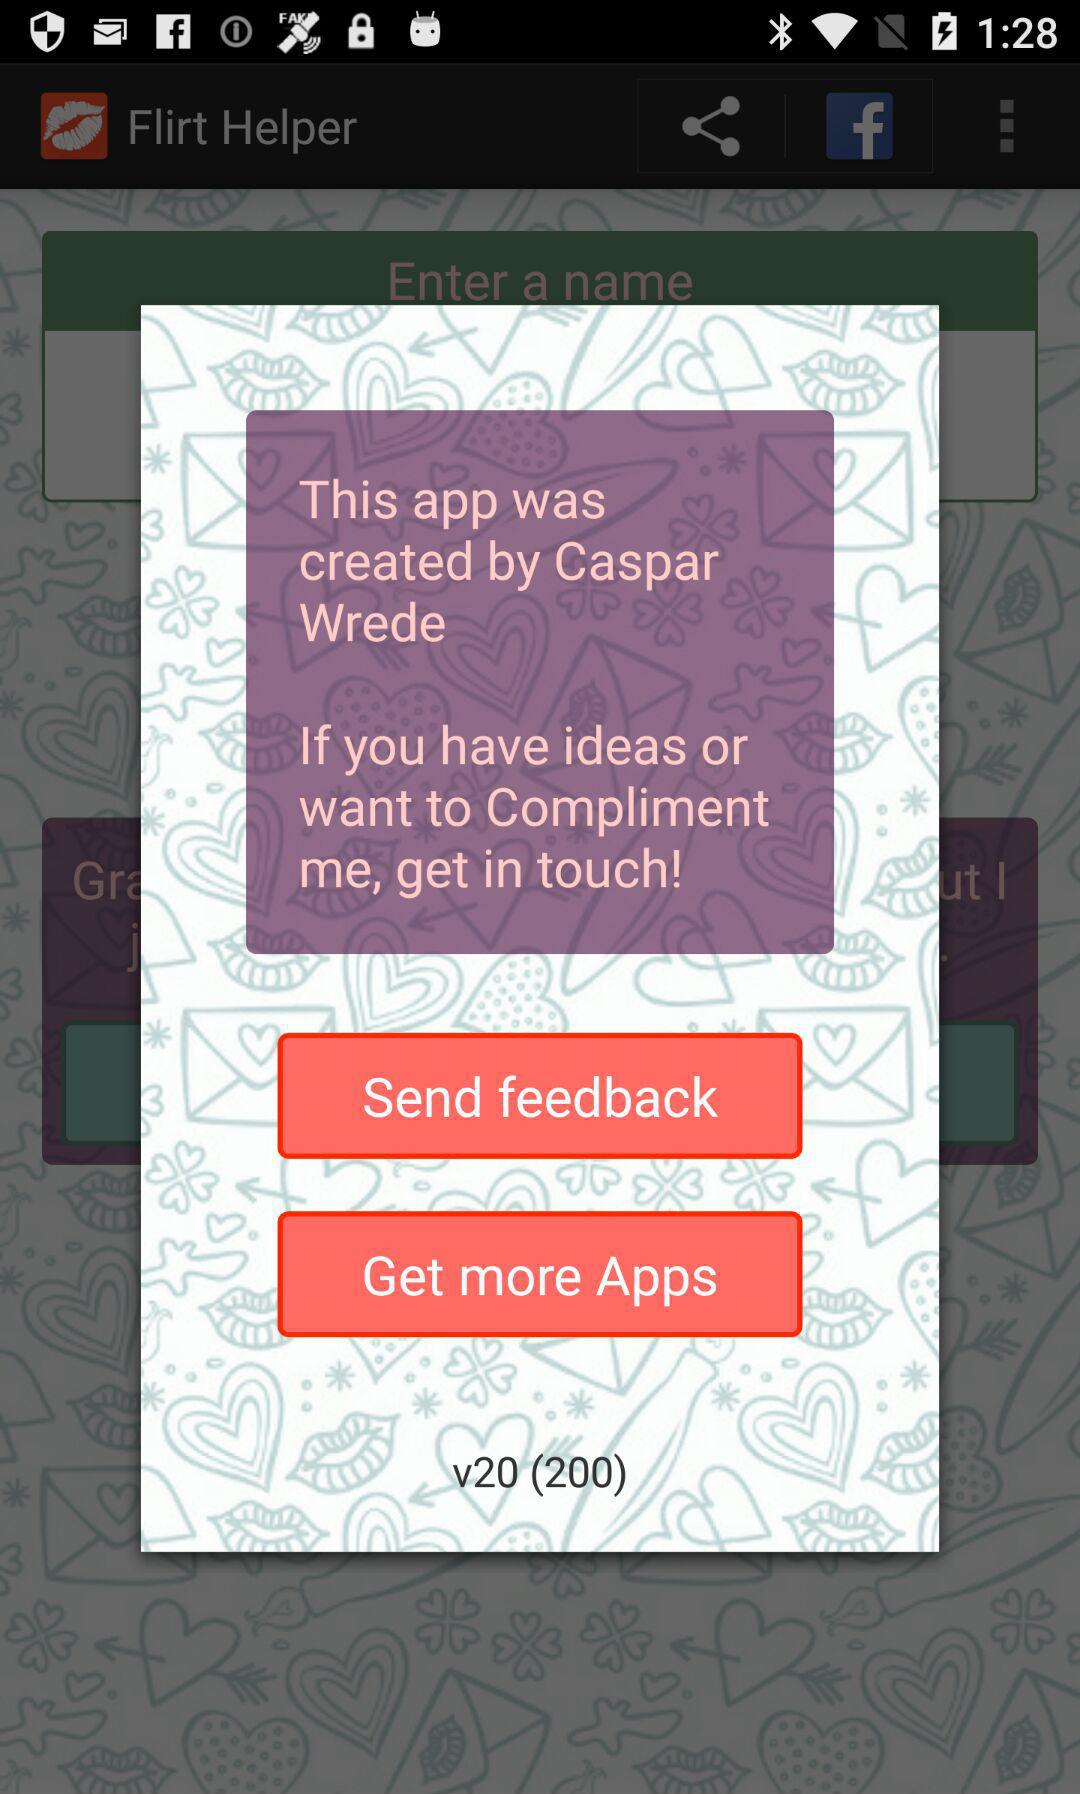Icon: (825, 94, 896, 161), (680, 97, 740, 160), (998, 99, 1015, 156)
Image: (41, 94, 109, 161)
Modal: (142, 308, 939, 1551)
Text: (299, 723, 771, 900), (297, 477, 721, 645), (129, 108, 357, 156), (455, 1445, 626, 1501)
TextButton: (278, 1212, 803, 1339), (278, 1034, 803, 1161)
UpperTaskBar: (1, 1, 1080, 64)
